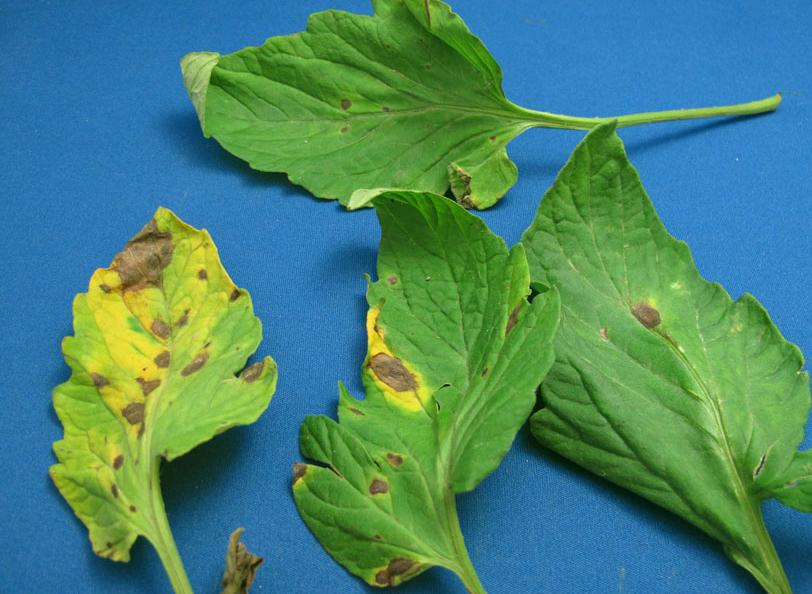Tomato Early blight leaf: (524, 118, 812, 594), (289, 187, 550, 594), (129, 0, 553, 222), (40, 196, 270, 594)
